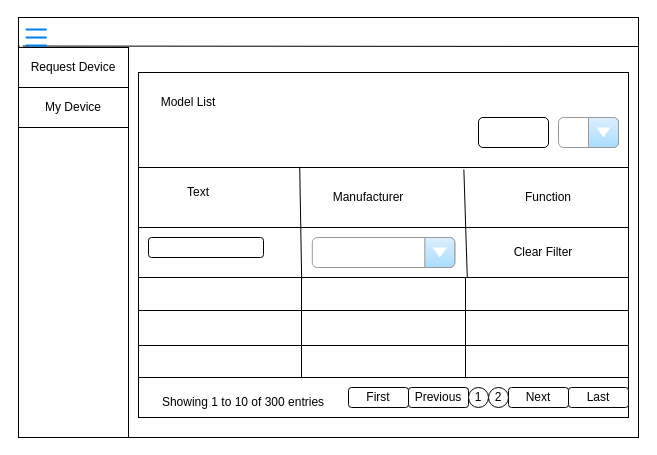
Some shapes in this 657 by 455 pixel diagram are drawn without their labels. Here are the shapes that lost their labels. From the top down, the centre of each, then its label:
pixel 513 132: Columns
pixel 206 247: Model
